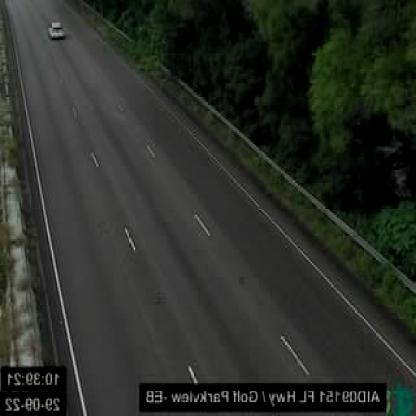Car: (48, 19, 69, 42)
